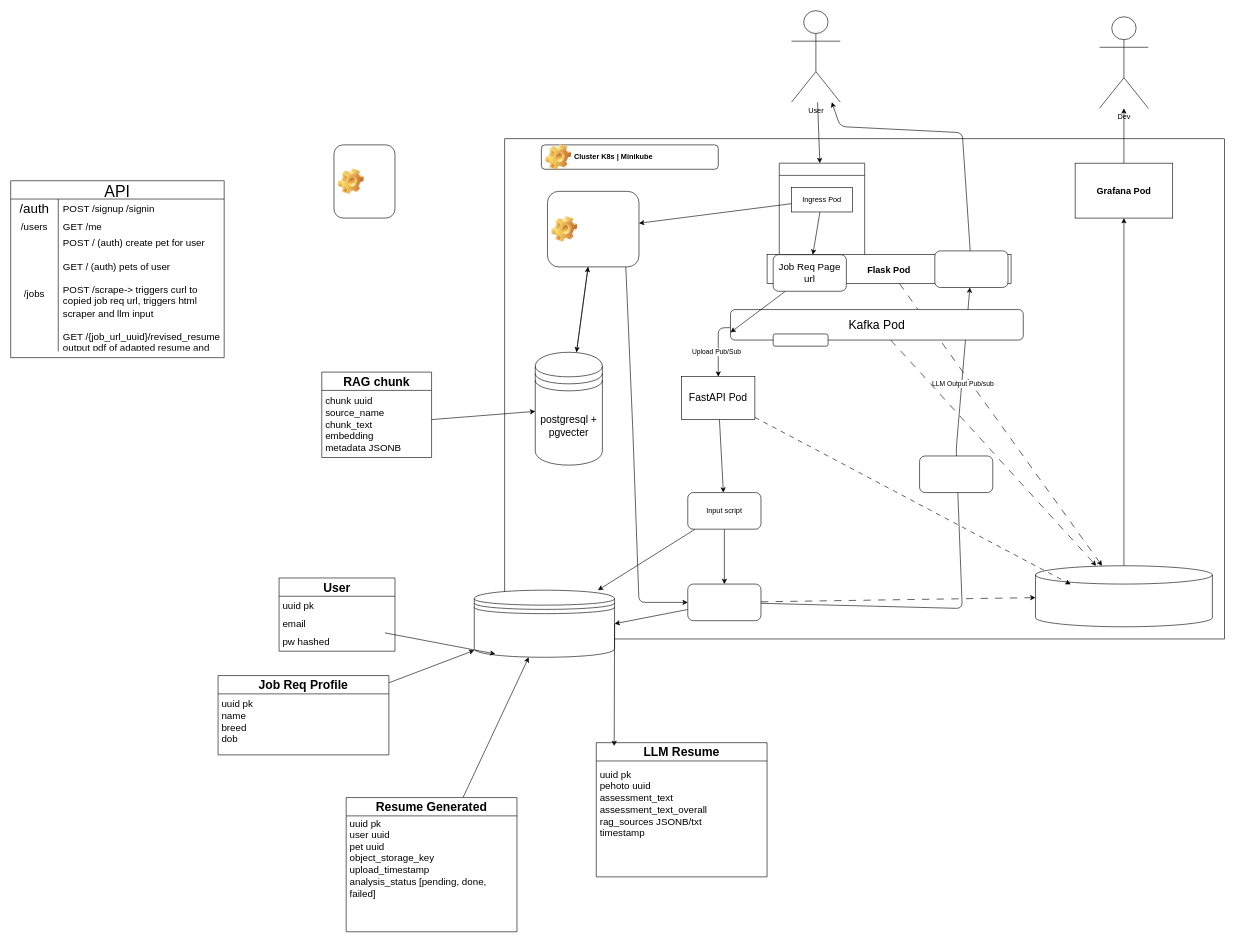
This 1235x942 diagram has some shape labels left out. Here are the shapes that lost their labels. From the top down, the centre of each, then its label:
At (x=364, y=181): "IdP".
At (x=593, y=229): "Ollama | Gemma3 Vision 12B".
At (x=971, y=268): "Output revised Resume pdf".
At (x=800, y=339): "Enrich".
At (x=956, y=474): "Overleaf Pod Latex pdf".
At (x=724, y=602): "LLM Script".
At (x=1123, y=596): "Prometheus Server + DB".
At (x=544, y=623): "PostgresQL | Resume data, Past applications".
